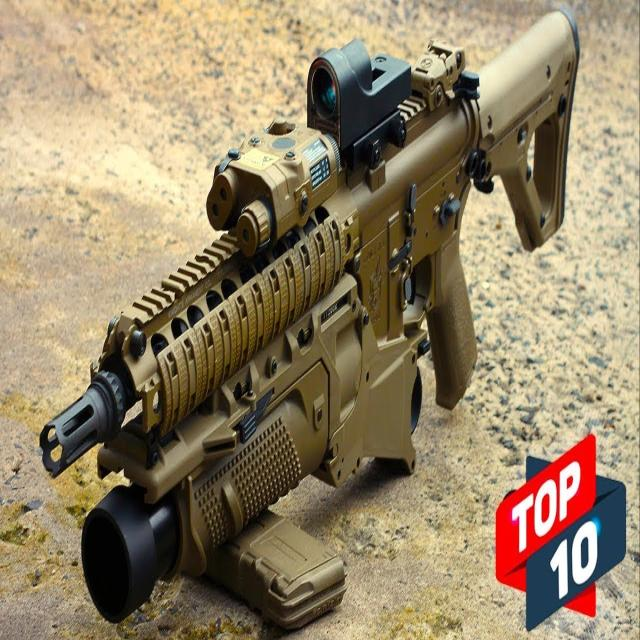Rifle: (38, 11, 580, 626)
